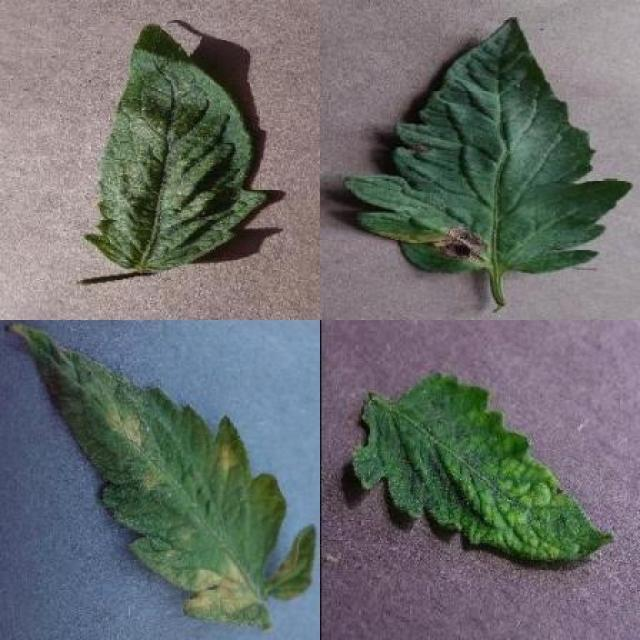Early Blight: (342, 17, 632, 277)
Leaf Mold: (2, 322, 318, 628)
Mosaic Virus: (352, 371, 614, 564)
Spider Mites: (85, 23, 268, 270)
